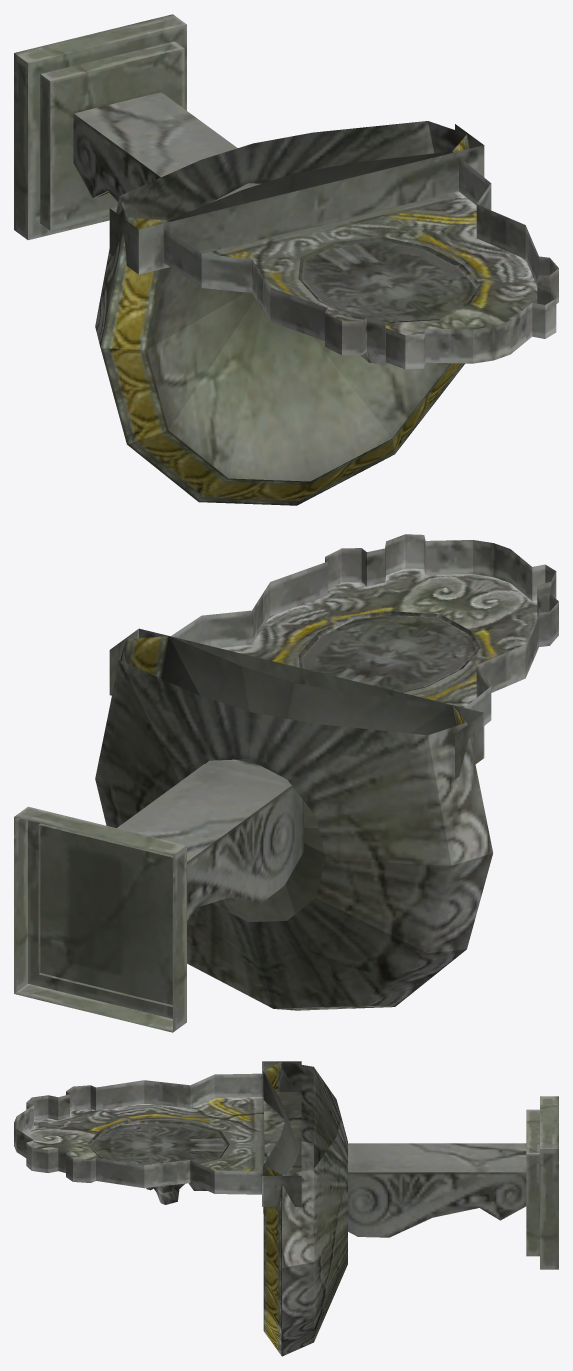
File: xila_yewai_45_shuichi_01a.obj
3 views of the same model, one above another, from view 1: azimuth 30°, elevation 25°; view 2: azimuth 150°, elevation 25°; view 3: azimuth 270°, elevation 25° (orthographic). The views are drawn at different scales.
Parts seen in each view (by area): view 1: xila_yewai_45_shuichi_01a; view 2: xila_yewai_45_shuichi_01a; view 3: xila_yewai_45_shuichi_01a.
Part boxes in pixels (x1=…): xila_yewai_45_shuichi_01a: x1=14, y1=14, x2=558, y2=505; xila_yewai_45_shuichi_01a: x1=14, y1=534, x2=558, y2=1032; xila_yewai_45_shuichi_01a: x1=14, y1=1061, x2=558, y2=1356.
Size of the model in its own units: 57.77 by 46.41 by 102.
Materials: 1 (1 with a texture image).
